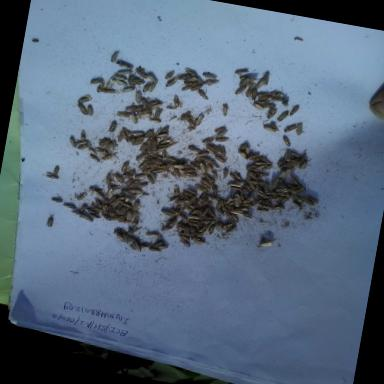pbw: (141, 78, 154, 96), (130, 135, 145, 149), (116, 68, 136, 78), (234, 84, 248, 98), (276, 110, 290, 124), (164, 76, 178, 90), (284, 121, 298, 135), (180, 110, 192, 126), (78, 94, 94, 106), (260, 72, 272, 88), (259, 238, 276, 249), (76, 103, 90, 116), (77, 140, 92, 152), (134, 69, 150, 80), (101, 88, 120, 97), (96, 80, 108, 94), (172, 95, 184, 109), (78, 213, 94, 223), (203, 78, 219, 88), (234, 68, 250, 78), (176, 73, 192, 83), (140, 98, 152, 111), (254, 77, 266, 90), (302, 196, 316, 207), (221, 220, 235, 231), (186, 118, 198, 130), (239, 76, 251, 88), (266, 108, 278, 120), (216, 128, 228, 140), (190, 83, 203, 94), (112, 174, 125, 185), (110, 50, 120, 64), (202, 136, 216, 146), (109, 122, 119, 136), (201, 178, 215, 188), (98, 138, 112, 148), (92, 190, 106, 200), (155, 166, 169, 176), (246, 163, 260, 173), (196, 90, 210, 100), (241, 196, 255, 206), (228, 208, 245, 216), (281, 136, 292, 148), (208, 170, 219, 182), (146, 174, 157, 186), (164, 70, 176, 81), (147, 73, 159, 84), (128, 113, 140, 124), (290, 105, 300, 118), (116, 111, 132, 119), (202, 72, 218, 80), (106, 184, 122, 192), (194, 184, 208, 193), (196, 150, 210, 159), (160, 209, 174, 218), (292, 194, 306, 203), (119, 200, 133, 209), (100, 213, 114, 222), (262, 125, 276, 134), (105, 187, 116, 198), (226, 225, 237, 236), (144, 129, 155, 140), (89, 186, 104, 194), (76, 192, 88, 202), (198, 162, 208, 174), (238, 152, 250, 162), (114, 233, 126, 243), (202, 218, 217, 226), (68, 136, 78, 148), (299, 159, 309, 171), (262, 162, 274, 172), (180, 238, 192, 248), (195, 115, 205, 127), (136, 152, 146, 164), (219, 146, 228, 159), (103, 153, 116, 162), (199, 191, 208, 204), (199, 181, 212, 190), (214, 155, 227, 164), (215, 136, 229, 144), (130, 130, 146, 137), (184, 76, 198, 84), (89, 155, 103, 163), (128, 187, 144, 194), (187, 146, 201, 154), (184, 68, 198, 76), (134, 172, 148, 180), (122, 86, 136, 94), (114, 78, 128, 86), (134, 182, 148, 190), (256, 91, 270, 99), (248, 171, 259, 181), (168, 216, 178, 227), (234, 193, 244, 204), (232, 170, 243, 180), (252, 103, 264, 112), (270, 176, 279, 188), (182, 84, 194, 93), (106, 78, 115, 90), (101, 204, 110, 216), (248, 152, 260, 161), (178, 214, 190, 223), (142, 166, 154, 175), (257, 190, 269, 199), (44, 173, 59, 180), (269, 91, 284, 98), (259, 156, 272, 164), (296, 123, 304, 136), (306, 196, 319, 204), (149, 81, 157, 94), (121, 190, 138, 196), (188, 194, 198, 204), (270, 122, 280, 132), (247, 180, 257, 190), (94, 199, 104, 209), (132, 242, 142, 252), (153, 240, 164, 249), (125, 211, 134, 222), (121, 162, 130, 173), (277, 156, 286, 167), (86, 208, 100, 215), (145, 231, 159, 238), (251, 88, 258, 102), (164, 156, 178, 163), (94, 148, 108, 155), (177, 234, 191, 241), (105, 172, 112, 186), (256, 163, 268, 171), (112, 75, 128, 81), (168, 196, 180, 204), (284, 150, 292, 162), (264, 102, 276, 110), (214, 208, 226, 216), (172, 186, 180, 198), (134, 93, 142, 105), (148, 100, 160, 108), (46, 216, 54, 228), (216, 198, 224, 210), (86, 106, 94, 118), (154, 108, 162, 120), (161, 226, 173, 234), (156, 243, 169, 250), (198, 224, 207, 234), (127, 80, 142, 86), (79, 204, 88, 214), (233, 198, 242, 208), (123, 128, 133, 137), (278, 170, 287, 180), (278, 166, 296, 171), (87, 148, 98, 156), (262, 182, 270, 193), (214, 126, 225, 134), (132, 201, 140, 212), (118, 219, 130, 226), (148, 118, 162, 124), (149, 247, 163, 253), (236, 206, 250, 212), (140, 112, 152, 119), (118, 130, 124, 144), (208, 224, 215, 236), (62, 204, 76, 210), (88, 214, 102, 220), (132, 217, 140, 227), (172, 168, 180, 178), (228, 173, 238, 181), (211, 186, 219, 196), (206, 148, 216, 156), (243, 212, 253, 220), (240, 142, 248, 152), (152, 102, 162, 110), (139, 143, 147, 153), (292, 202, 302, 210), (124, 178, 134, 186), (122, 234, 130, 244), (113, 228, 123, 236), (187, 214, 200, 220), (171, 164, 184, 170), (186, 189, 198, 195), (125, 106, 137, 112), (70, 210, 82, 216), (80, 130, 86, 142), (149, 172, 158, 180), (290, 152, 302, 158), (222, 105, 228, 117), (51, 198, 63, 204), (228, 183, 242, 188), (201, 207, 208, 217), (217, 219, 223, 230), (194, 240, 205, 246), (258, 173, 270, 178), (112, 140, 118, 150), (257, 208, 269, 213), (230, 186, 242, 191), (222, 168, 228, 178), (254, 162, 268, 166), (54, 166, 60, 175), (190, 238, 202, 242), (166, 106, 177, 110)
